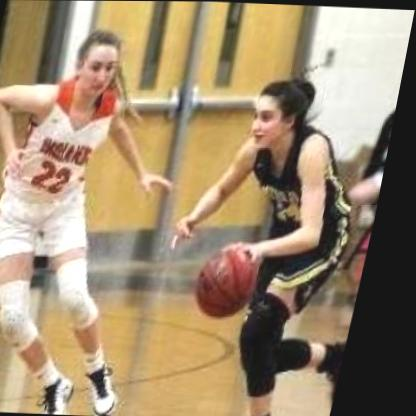basketball: (203, 244, 274, 319)
